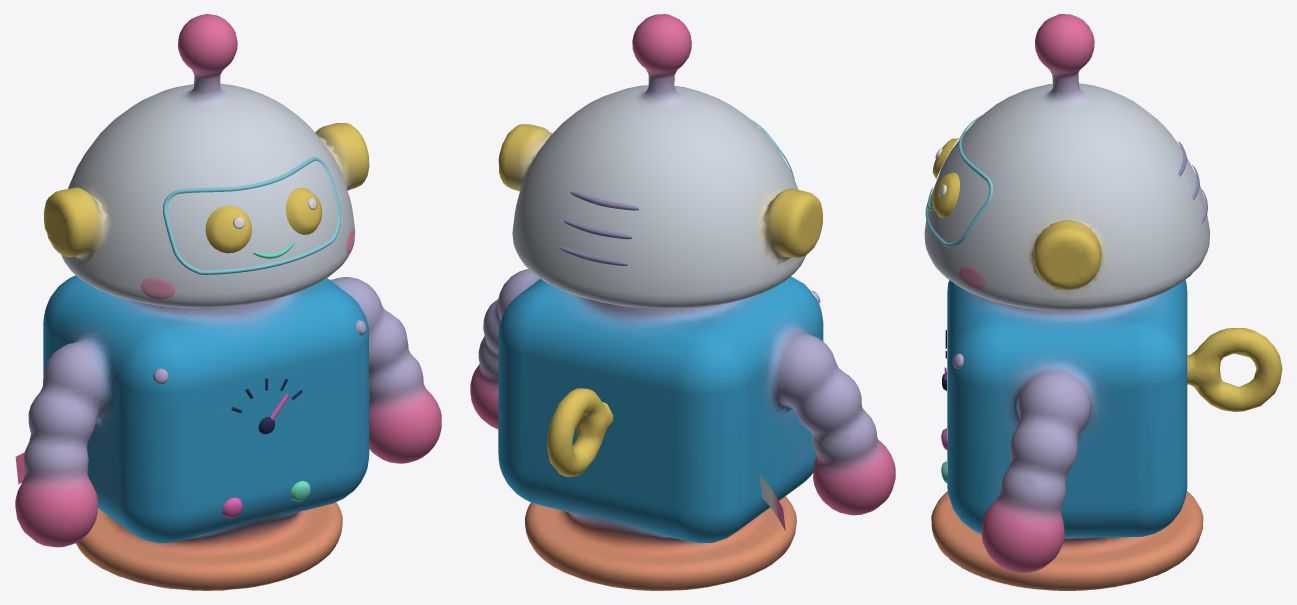
Rendered from spacerobot.glb.
3 views of the same model, side by side, from view 1: azimuth 30°, elevation 25°; view 2: azimuth 150°, elevation 25°; view 3: azimuth 270°, elevation 25° (orthographic).
Parts seen in each view (by area): view 1: LOD0; view 2: LOD0; view 3: LOD0.
Boxes of the visible parts, x1,y1,x2,y2 form: LOD0: [15, 14, 441, 590]; LOD0: [470, 14, 895, 590]; LOD0: [924, 14, 1282, 590].
Size of what is drawn, in the model's own units: 0.181 by 0.217 by 0.1351.
